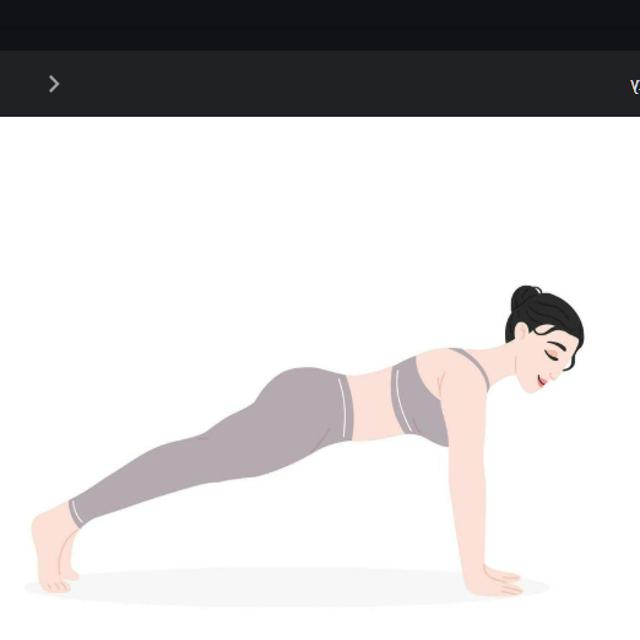Plank_Pose: (27, 281, 589, 605)
